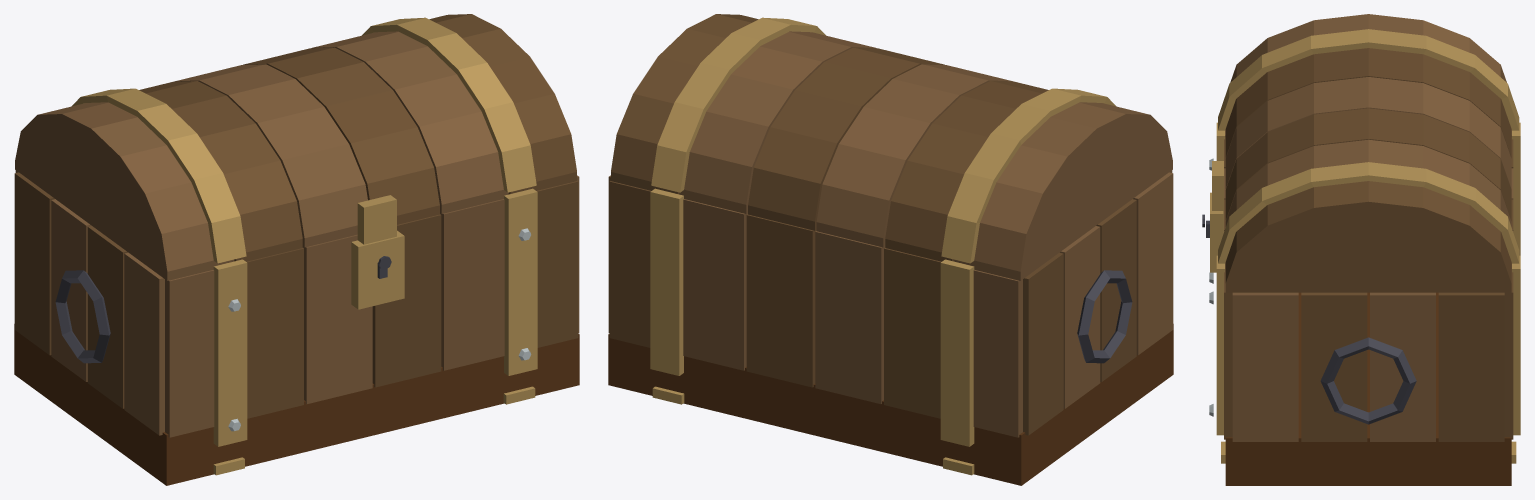
The model's file is treasure_chest_closed.glb.
3 renders of one model, left to right at view 1: azimuth 30°, elevation 25°; view 2: azimuth 150°, elevation 25°; view 3: azimuth 270°, elevation 25°, orthographic. The views are drawn at different scales.
Visible parts, largest first — view 1: treasure_chest_closed; view 2: treasure_chest_closed; view 3: treasure_chest_closed.
Part boxes in pixels (<box>): treasure_chest_closed: <box>14,14,579,485</box>; treasure_chest_closed: <box>608,14,1173,485</box>; treasure_chest_closed: <box>1202,14,1520,485</box>.
Bounding box in the file's own units: 0.998 × 0.669 × 0.668.
